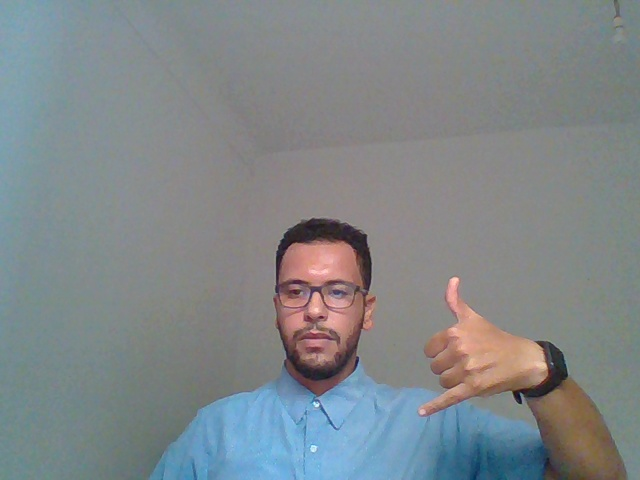callme: (394, 246, 579, 455)
